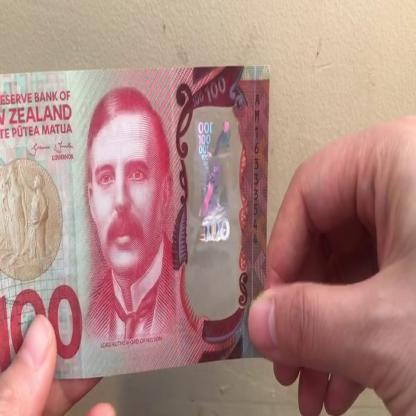100F: (196, 114, 236, 296)
